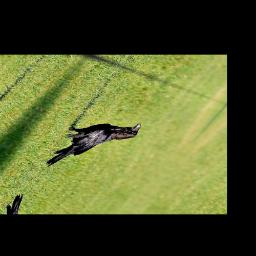Crow: (36, 104, 148, 184)
